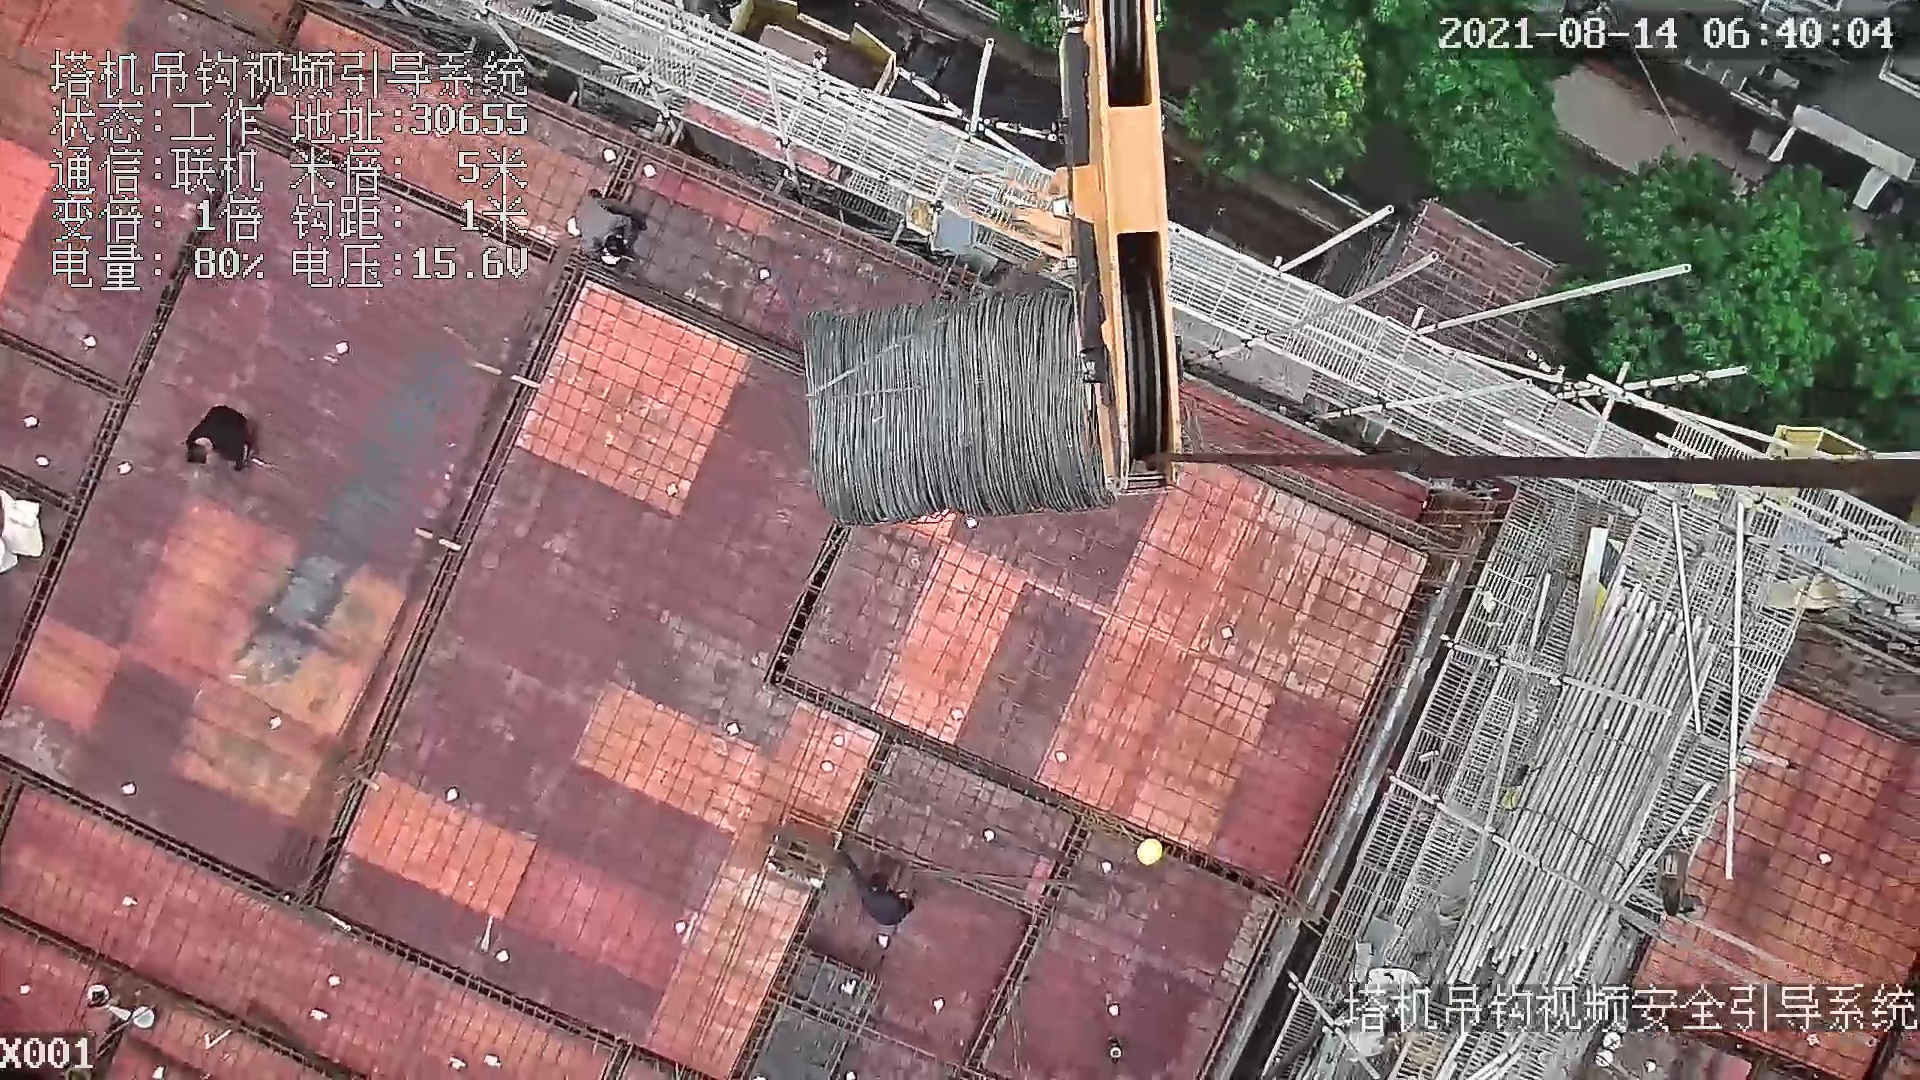helmet: (1137, 831, 1169, 864)
hook: (1018, 1, 1190, 491)
person: (564, 186, 651, 271), (183, 401, 264, 474), (841, 853, 917, 930)
